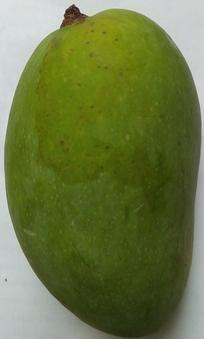Unripe: (1, 1, 204, 339)
